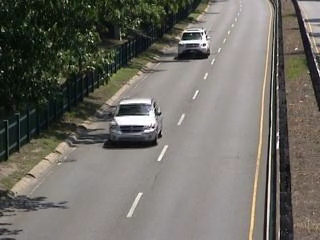car: (106, 94, 167, 146), (173, 27, 212, 61)
